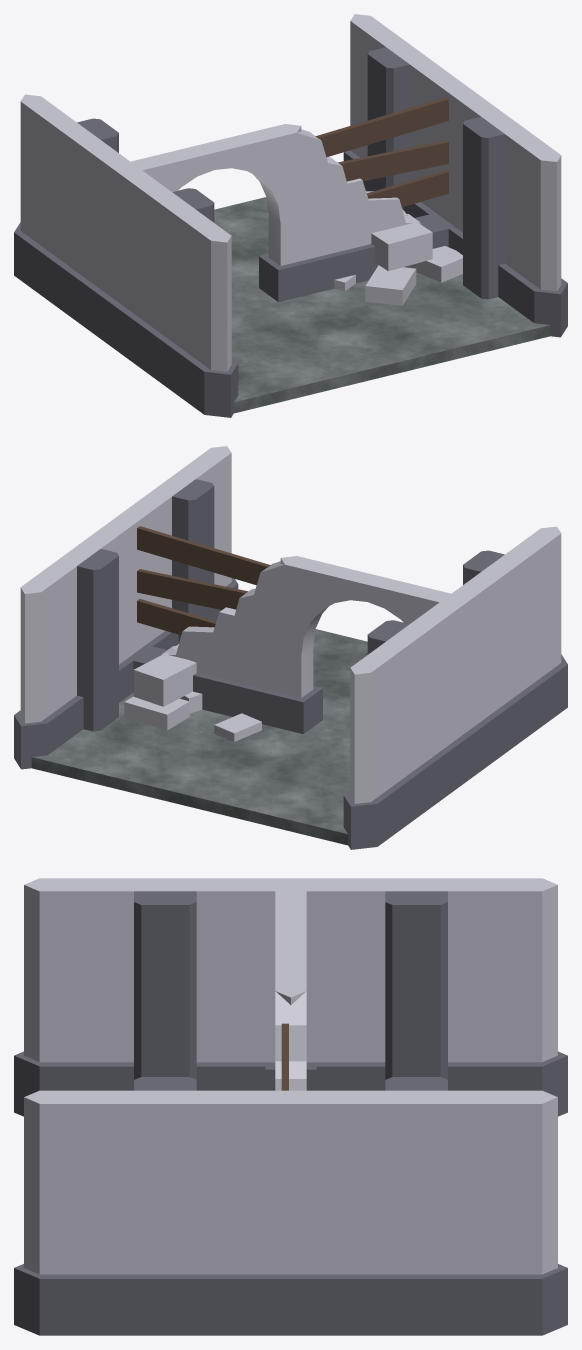
The model's file is hallway_05.fbx.
3 views of the same model, one above another, from view 1: azimuth 30°, elevation 25°; view 2: azimuth 150°, elevation 25°; view 3: azimuth 270°, elevation 25° (orthographic). The views are drawn at different scales.
Visible parts, largest first — view 1: floor_01_11, wall_02_13, wall_02_15, wall_02_12, wall_02_14, arch_01_20, wall_ruined_23, planks_wall_22, debris_bricks_21, wall_border_24; view 2: floor_01_11, wall_02_12, wall_02_14, wall_02_13, wall_02_15, arch_01_20, wall_ruined_23, planks_wall_22, debris_bricks_21, wall_border_24; view 3: wall_02_14, wall_02_15, wall_02_12, wall_02_13, arch_01_20, wall_ruined_23.
Part boxes in pixels (x1,y1,x2,y2): floor_01_11: (214,197,550,413); wall_02_13: (109,165,238,417); wall_02_15: (439,84,567,337); wall_02_12: (14,94,135,344); wall_02_14: (343,14,465,222); arch_01_20: (109,124,302,301); wall_ruined_23: (281,125,420,261); planks_wall_22: (315,97,448,207); debris_bricks_21: (334,209,462,305); wall_border_24: (291,214,448,296); floor_01_11: (31,629,367,845); wall_02_12: (343,596,472,849); wall_02_14: (14,516,142,769); wall_02_13: (446,526,567,776); wall_02_15: (116,446,238,653); arch_01_20: (279,556,472,733); wall_ruined_23: (161,557,300,693); planks_wall_22: (137,526,270,635); debris_bricks_21: (124,644,261,741); wall_border_24: (133,646,290,728); wall_02_14: (276,1077,567,1335); wall_02_15: (14,1077,304,1335); wall_02_12: (276,878,567,1116); wall_02_13: (14,878,305,1116); arch_01_20: (265,879,316,1090); wall_ruined_23: (275,986,306,1090).
Bounding box in the file's own units: 22.05 × 10 × 22.05.
